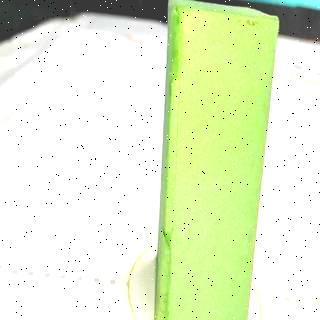greenbox: (156, 0, 279, 320)
